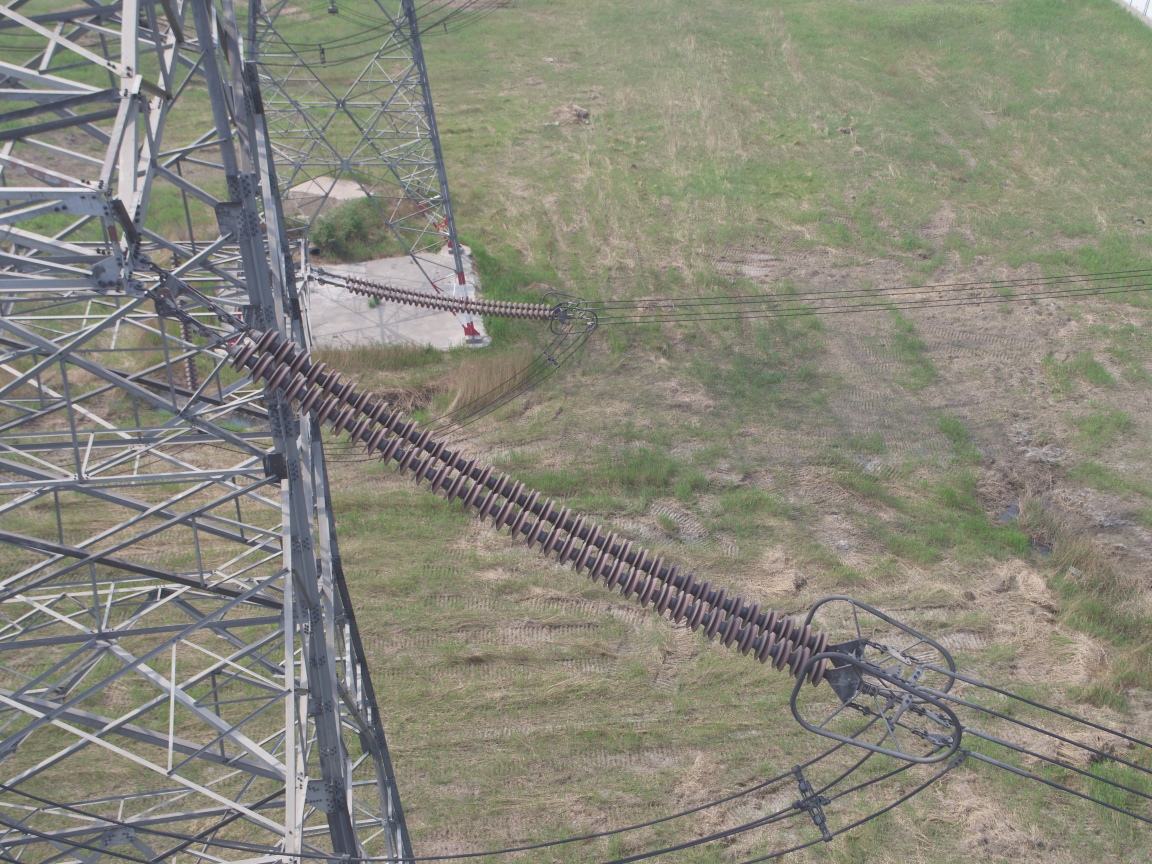insulator: (190, 322, 835, 691), (323, 274, 565, 324)
